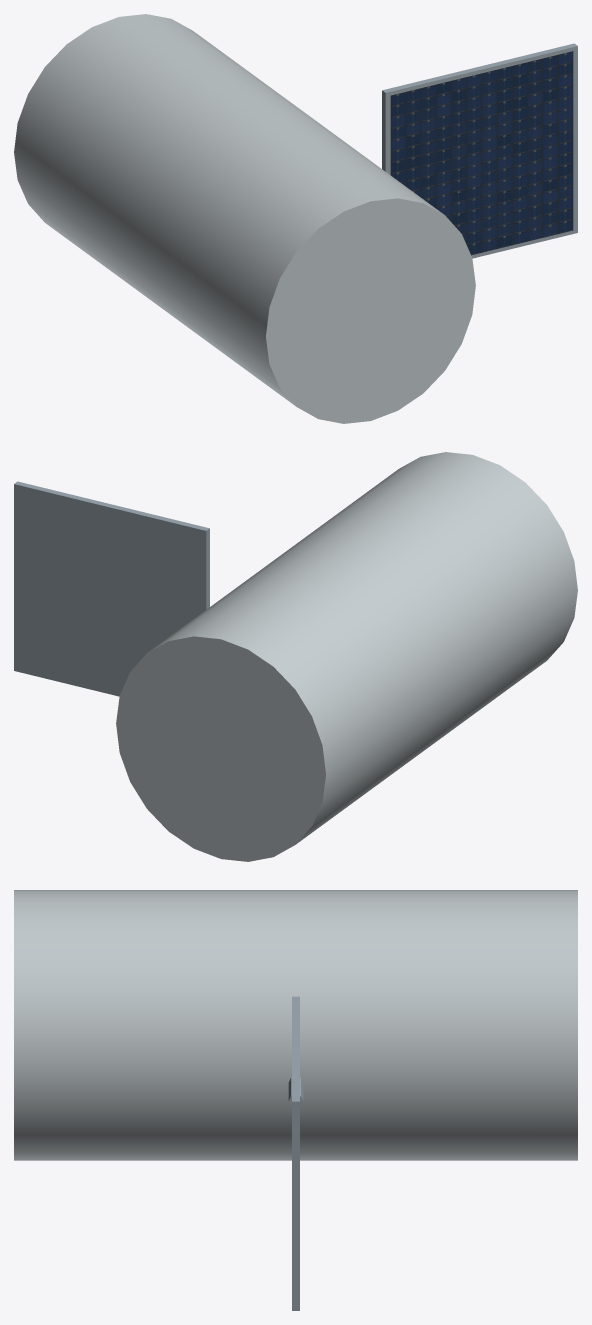
File: ref-sa-200-31140.glb
3 views of the same model, one above another, from view 1: azimuth 30°, elevation 25°; view 2: azimuth 150°, elevation 25°; view 3: azimuth 270°, elevation 25° (orthographic). The views are drawn at different scales.
Parts seen in each view (by area): view 1: Spacecraft body, Photovoltaic laminates, Array frame; view 2: Spacecraft body, Array frame; view 3: Spacecraft body, Array frame.
Boxes of the visible parts, box(x1,y1,x2,y2) form: Spacecraft body: box(14, 14, 475, 423); Photovoltaic laminates: box(390, 51, 573, 255); Array frame: box(382, 43, 577, 258); Spacecraft body: box(116, 452, 577, 861); Array frame: box(14, 481, 209, 696); Spacecraft body: box(14, 890, 577, 1160); Array frame: box(292, 996, 299, 1310).
Size of the model in its own units: 2.7 by 1.3 by 2.7.
3 materials, 1 textured.
